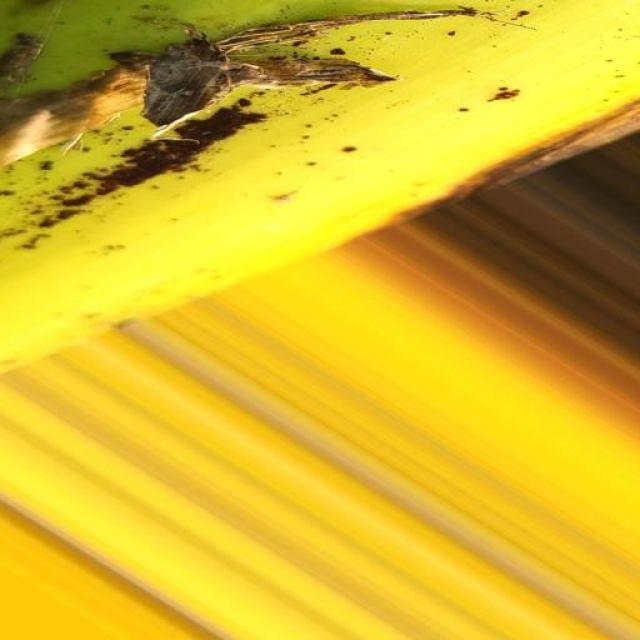Anthracnose: (4, 0, 640, 390)
